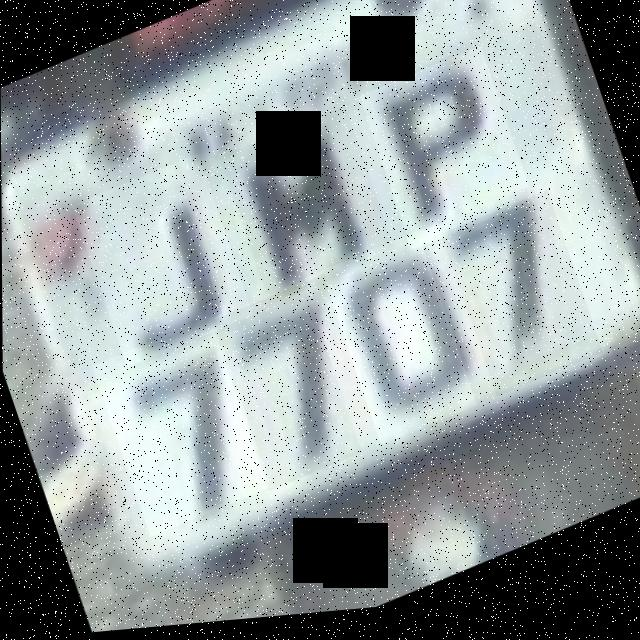0: (304, 227, 496, 462)
7: (91, 316, 271, 544), (421, 197, 603, 417), (210, 276, 382, 500)
J: (71, 153, 253, 374)
M: (220, 108, 396, 314)
P: (359, 51, 533, 261)
